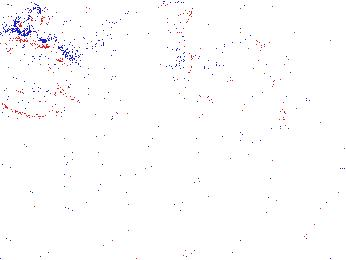moon jellyfish: (54, 34, 195, 116), (1, 29, 85, 118), (102, 2, 192, 70), (193, 64, 286, 129), (169, 37, 263, 98)
